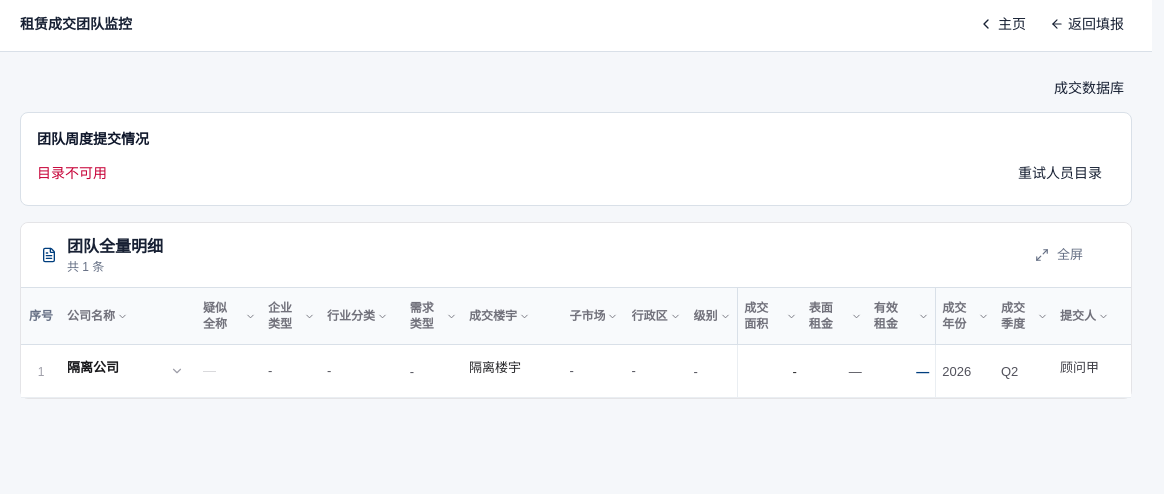
Scenario: 团队监控独立明细 › keeps approved detail visible on directory failure and retries only the directory
Expected: the text "隔离公司" is shown, [67,358,119,378]
Expected: the text "本周达标率" is not shown
Click the button "重试人员目录" at (1060, 173), box [1005,157,1115,189]
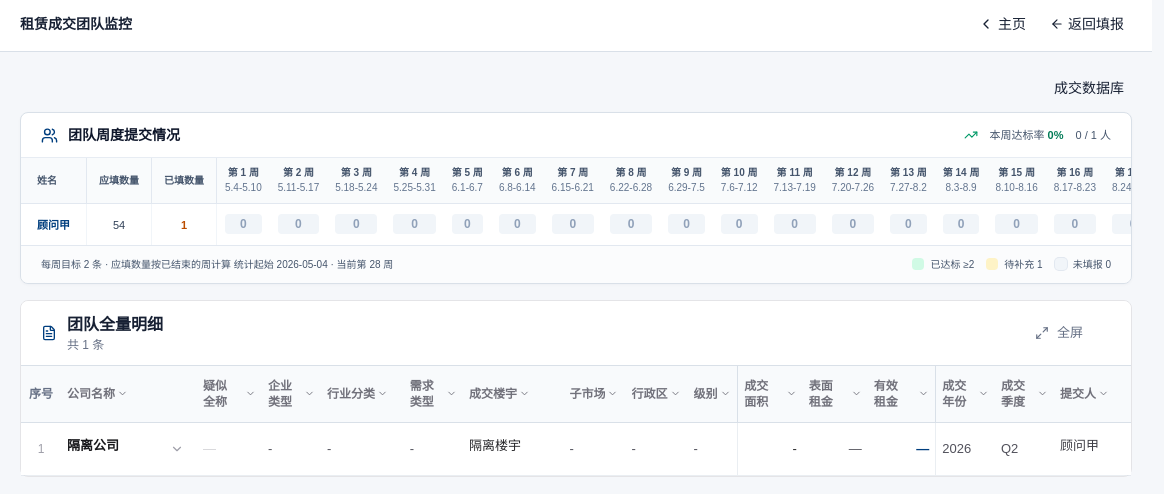
Expected: the text "隔离公司" is shown, [67,436,119,456]
Result: the button "顾问甲" is shown at [37,217,70,233]
